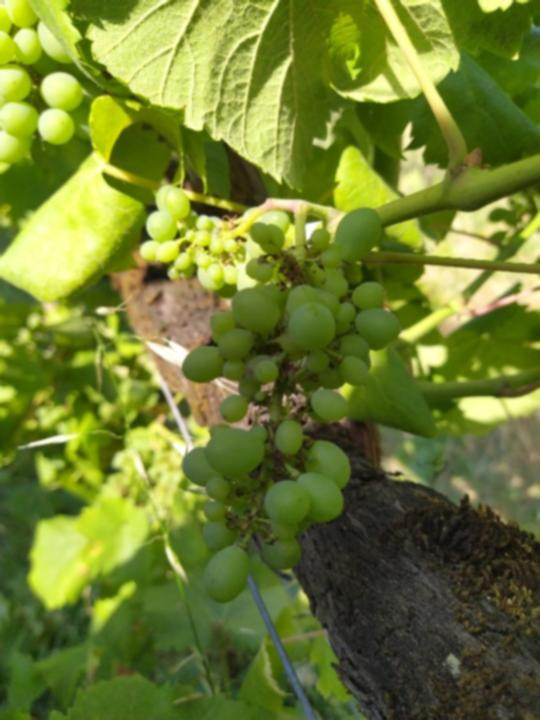grape: (173, 192, 409, 605), (135, 182, 239, 293)
